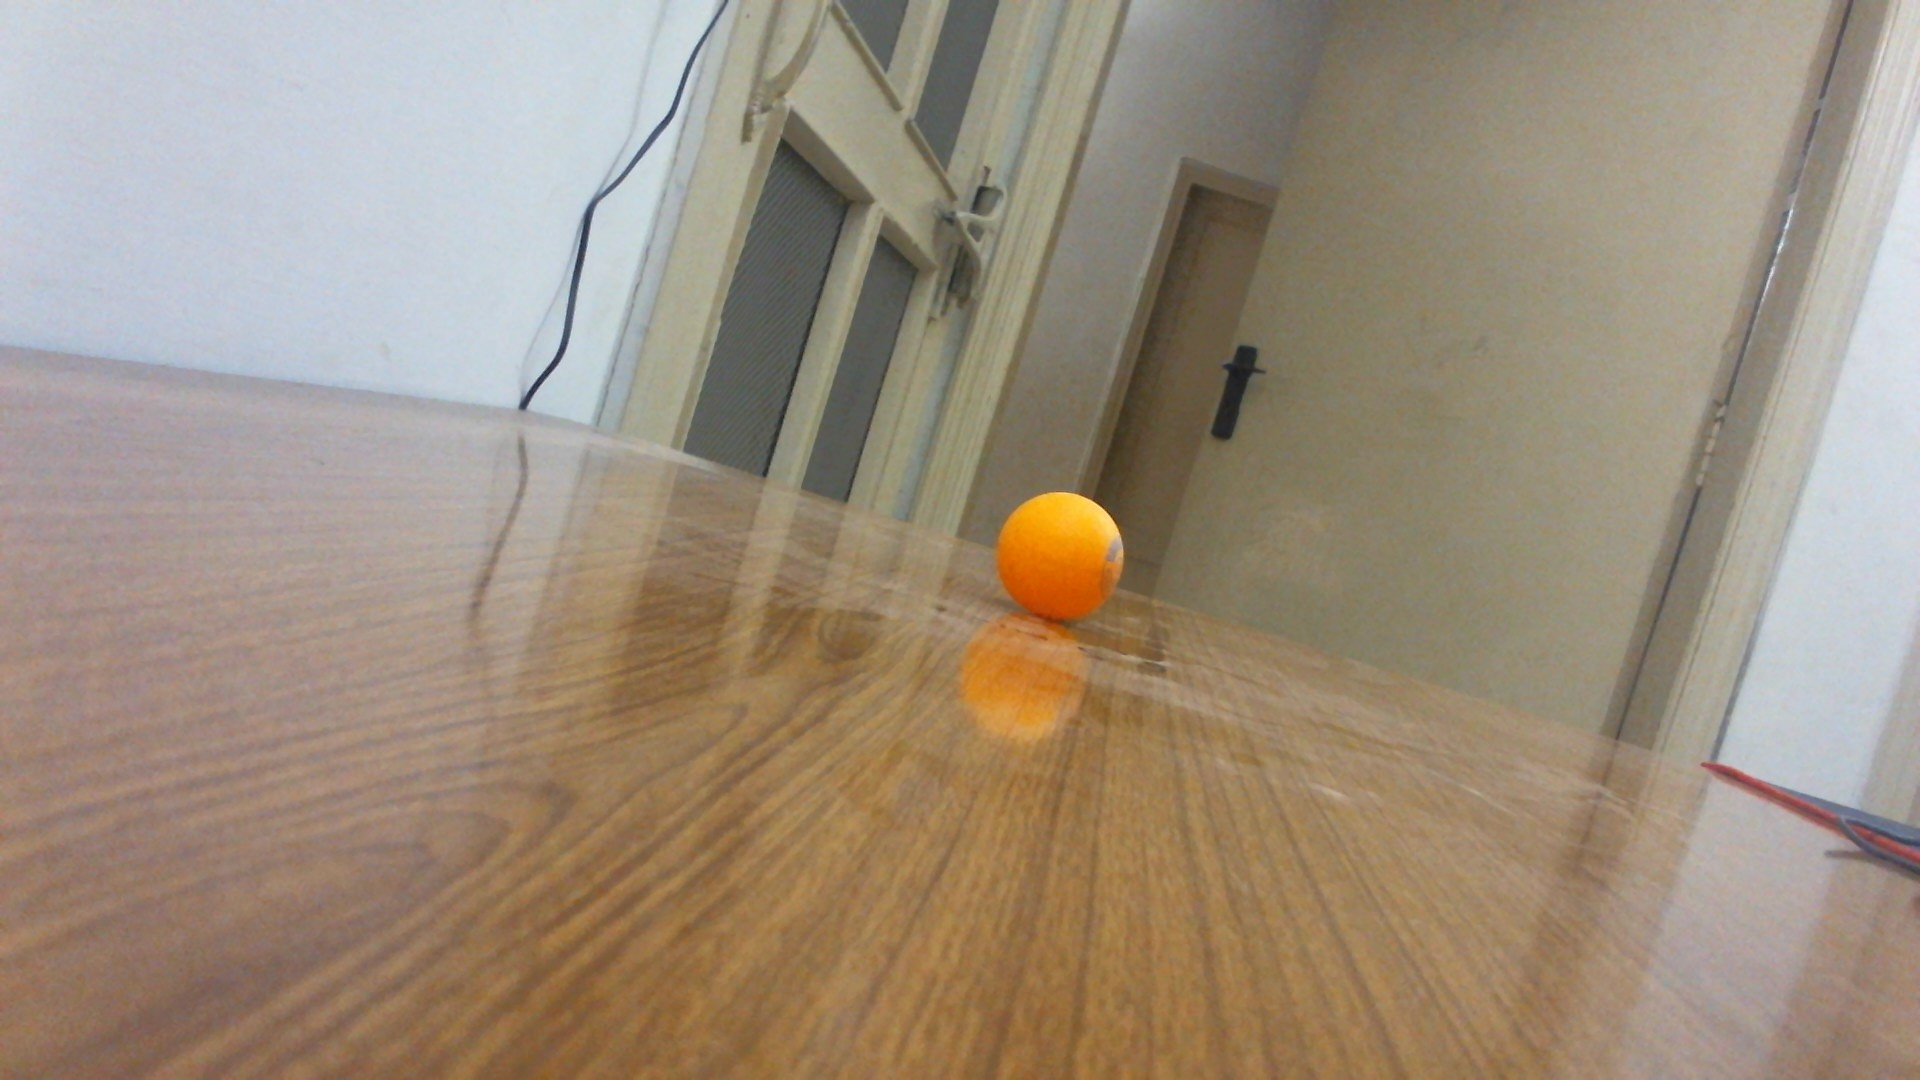ball: (997, 491, 1124, 622)
